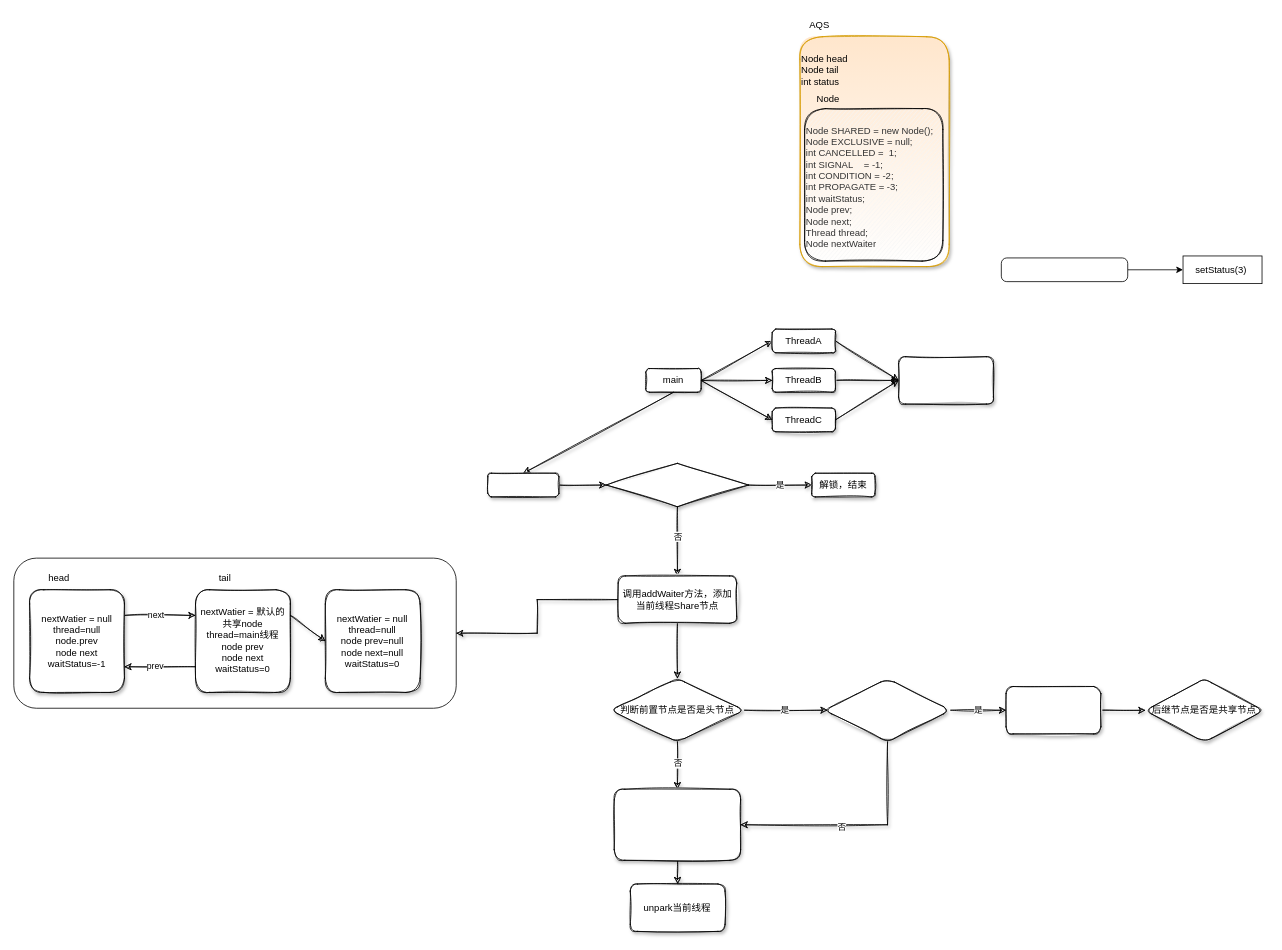
The diagram is 1282 pixels wide and 950 high, and some of its shapes have lost their labels. The centre of each missing label's shape, as x and y in pixels:
await(): the point at 524,485
countDown(): the point at 946,381
new CountDownLatch(3);: the point at 1064,269
判断AQS status是否等于0: the point at 677,485
判断当前status是否是0: the point at 888,711
头节点出队 设置当前节点为头节点 向后广播解锁事件: the point at 1054,711
循环判断前置节点的状态 剔除异常节点 设置前置节点状态为-1: the point at 677,825
